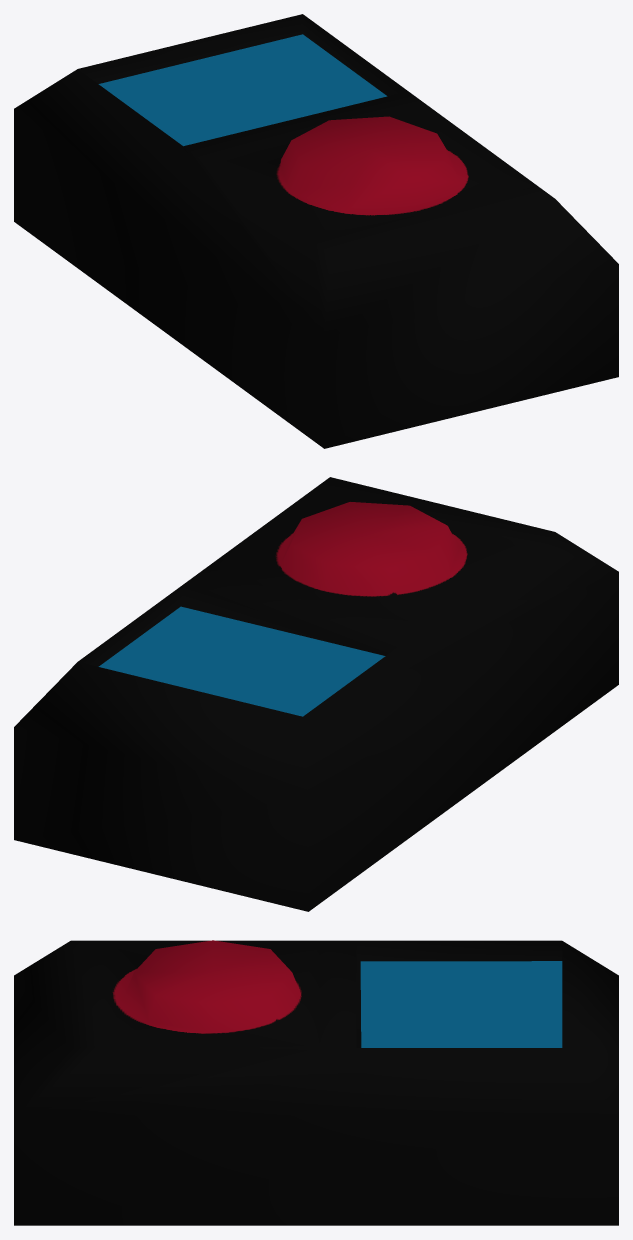
File: Button.fbx
3 views of the same model, one above another, from view 1: azimuth 30°, elevation 25°; view 2: azimuth 150°, elevation 25°; view 3: azimuth 270°, elevation 25° (orthographic). The views are drawn at different scales.
Parts seen in each view (by area): view 1: node_id3, root; view 2: node_id3, root; view 3: node_id3, root.
Part boxes in pixels (x1,y1,x2,y2): node_id3: [14, 14, 618, 448]; root: [98, 34, 387, 146]; node_id3: [14, 477, 618, 911]; root: [98, 606, 385, 716]; node_id3: [14, 940, 618, 1225]; root: [360, 961, 562, 1047].
Size of the model in its own units: 0.512 by 0.3125 by 0.9345.
2 materials, 2 textured.
